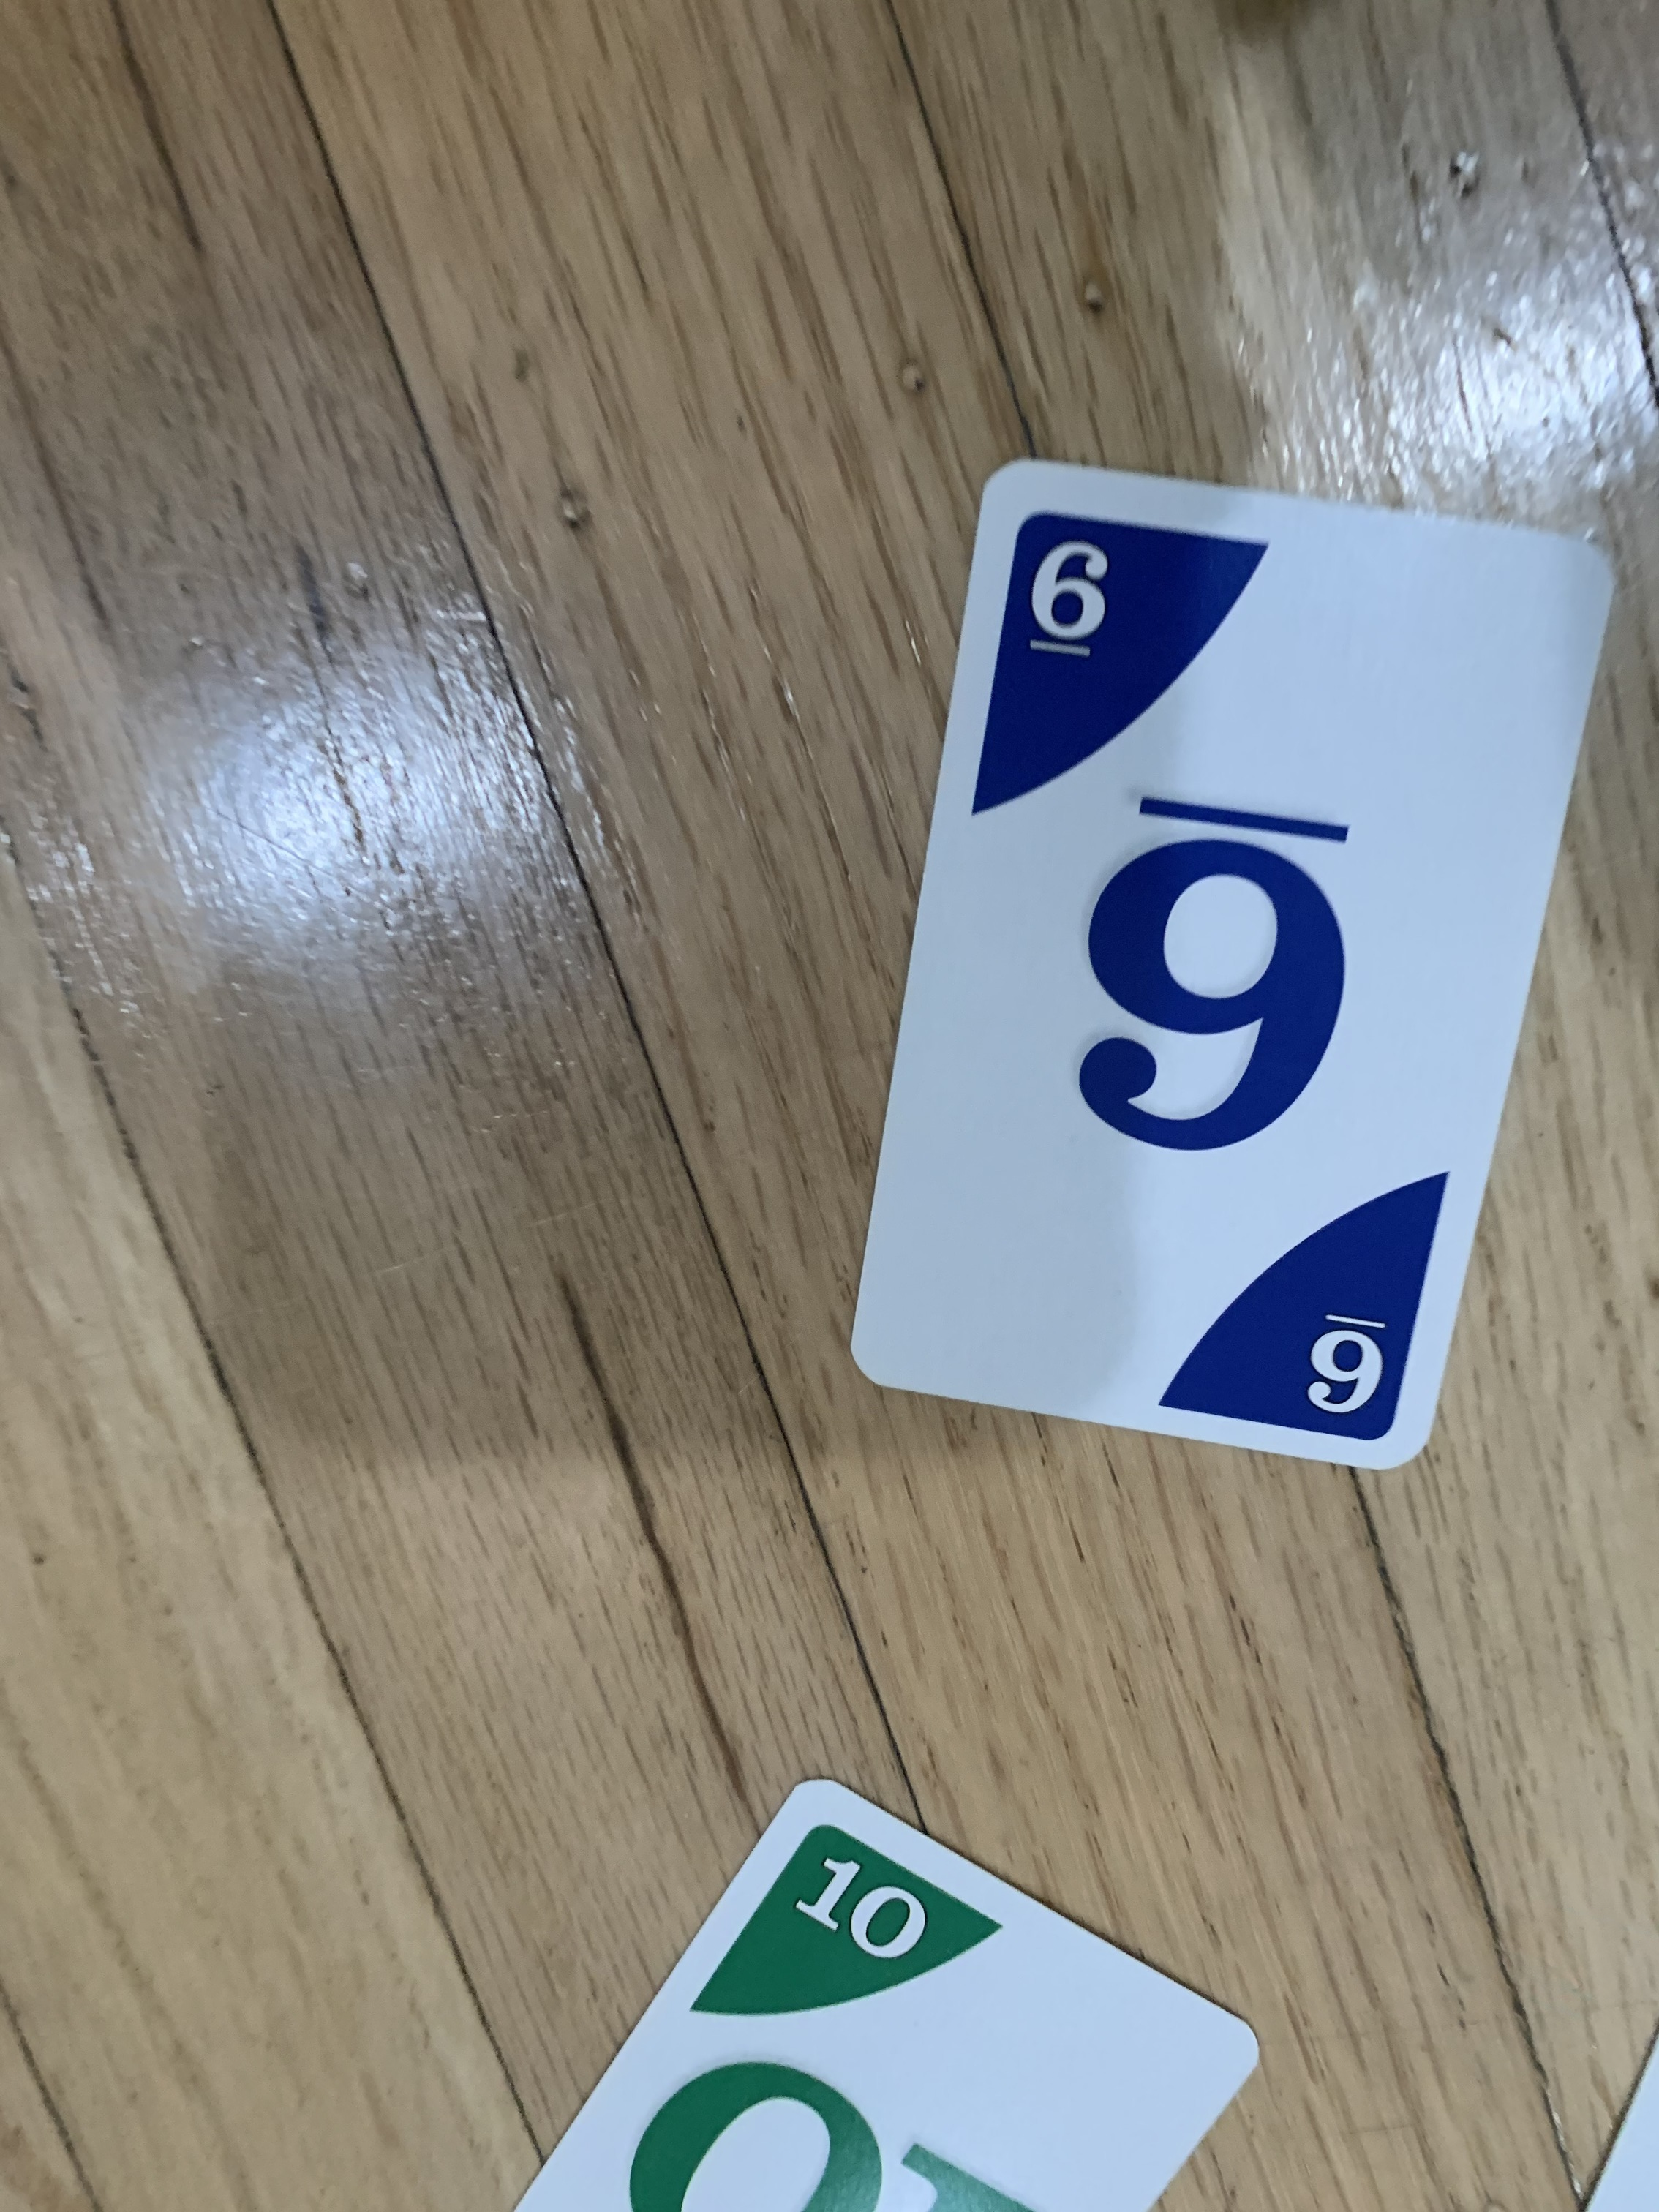nine: (843, 449, 1633, 1468)
